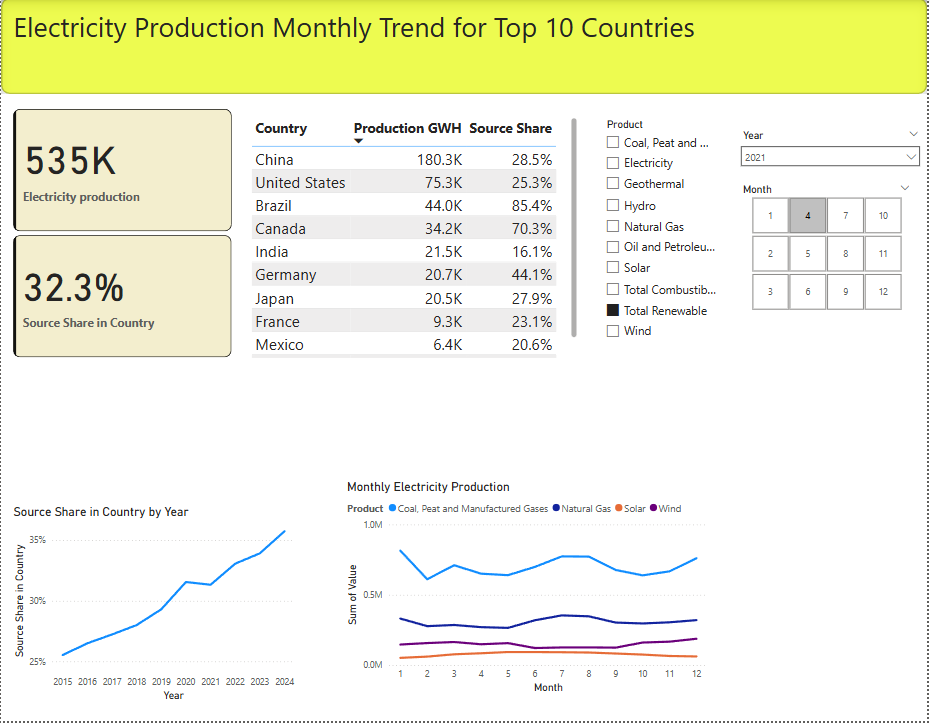

What the dashboard file says about the page in this screenshot:
{"tool":"powerbi","page":{"name":"Monthly Electricity Trend","canvas":[1280,1000],"ordinal":2},"visuals":[{"type":"tableEx","fields":{"Values":["Energy Data.Country","Sum(Energy Data.Value)","All Measure.Source Share in Country"]},"box":[340.4,160.7,461.3,342.1],"z":0},{"type":"lineChart","fields":{"Category":["Energy Data.Year"],"Y":["All Measure.Source Share in Country"]},"box":[12.1,699.7,400.8,278.2],"z":1000},{"type":"lineChart","title":"Monthly Electricity Production","fields":{"Category":["Energy Data.Month"],"Y":["Sum(Energy Data.Value)"],"Series":["Energy Data.Product"]},"box":[473.4,665.2,508,300.6],"z":2000},{"type":"slicer","fields":{"Values":["Energy Data.Year"]},"box":[1012.4,176.2,267.8,89.8],"z":3000},{"type":"slicer","fields":{"Values":["Energy Data.Product"]},"box":[824.1,160.7,169.3,330],"z":4000},{"type":"slicer","fields":{"Values":["Energy Data.Month"]},"box":[1012.4,250.5,255.7,186.6],"z":5000},{"type":"cardVisual","fields":{"Data":["All Measure.electricity production card","All Measure.Source Share in Country"]},"box":[12.1,148.6,312.7,354.2],"z":6000},{"type":"shape","box":[0,0,1280.2,133],"z":7000},{"type":"textbox","box":[12.1,8.6,1116.1,117.5],"z":8000}]}

Visuals, with their boxes in screenshot pixels (x1, y1, x2, y2), scaled from the page's 1280x1000 canvas onto the 930x727 screenshot:
tableEx - Energy Data.Country x Sum(Energy Data.Value): {"x1": 247, "y1": 117, "x2": 582, "y2": 366}
lineChart - Energy Data.Year x All Measure.Source Share in Country: {"x1": 9, "y1": 509, "x2": 300, "y2": 711}
"Monthly Electricity Production" lineChart: {"x1": 344, "y1": 484, "x2": 713, "y2": 702}
slicer - Energy Data.Year: {"x1": 736, "y1": 128, "x2": 929, "y2": 193}
slicer - Energy Data.Product: {"x1": 599, "y1": 117, "x2": 722, "y2": 357}
slicer - Energy Data.Month: {"x1": 736, "y1": 182, "x2": 921, "y2": 318}
cardVisual - All Measure.electricity production card x All Measure.Source Share in Country: {"x1": 9, "y1": 108, "x2": 236, "y2": 366}
shape: {"x1": 0, "y1": 0, "x2": 929, "y2": 97}
textbox: {"x1": 9, "y1": 6, "x2": 820, "y2": 92}
